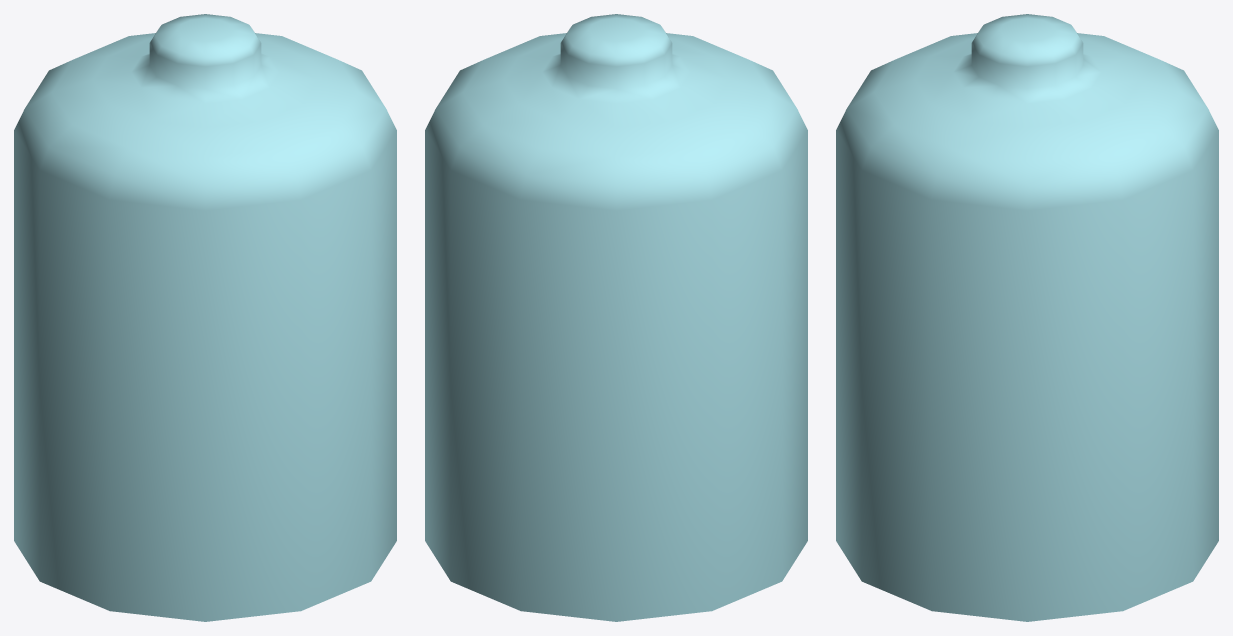
Rendered from ClocheGlass2.fbx.
3 renders of one model, left to right at view 1: azimuth 30°, elevation 25°; view 2: azimuth 150°, elevation 25°; view 3: azimuth 270°, elevation 25°, orthographic.
Visible parts, largest first — view 1: ClocheGlass2; view 2: ClocheGlass2; view 3: ClocheGlass2.
Boxes of the visible parts, x1=… form: ClocheGlass2: x1=14, y1=14, x2=396, y2=621; ClocheGlass2: x1=425, y1=14, x2=807, y2=621; ClocheGlass2: x1=836, y1=14, x2=1218, y2=621.
Bounding box in the file's own units: 28.12 × 41.43 × 28.12.
